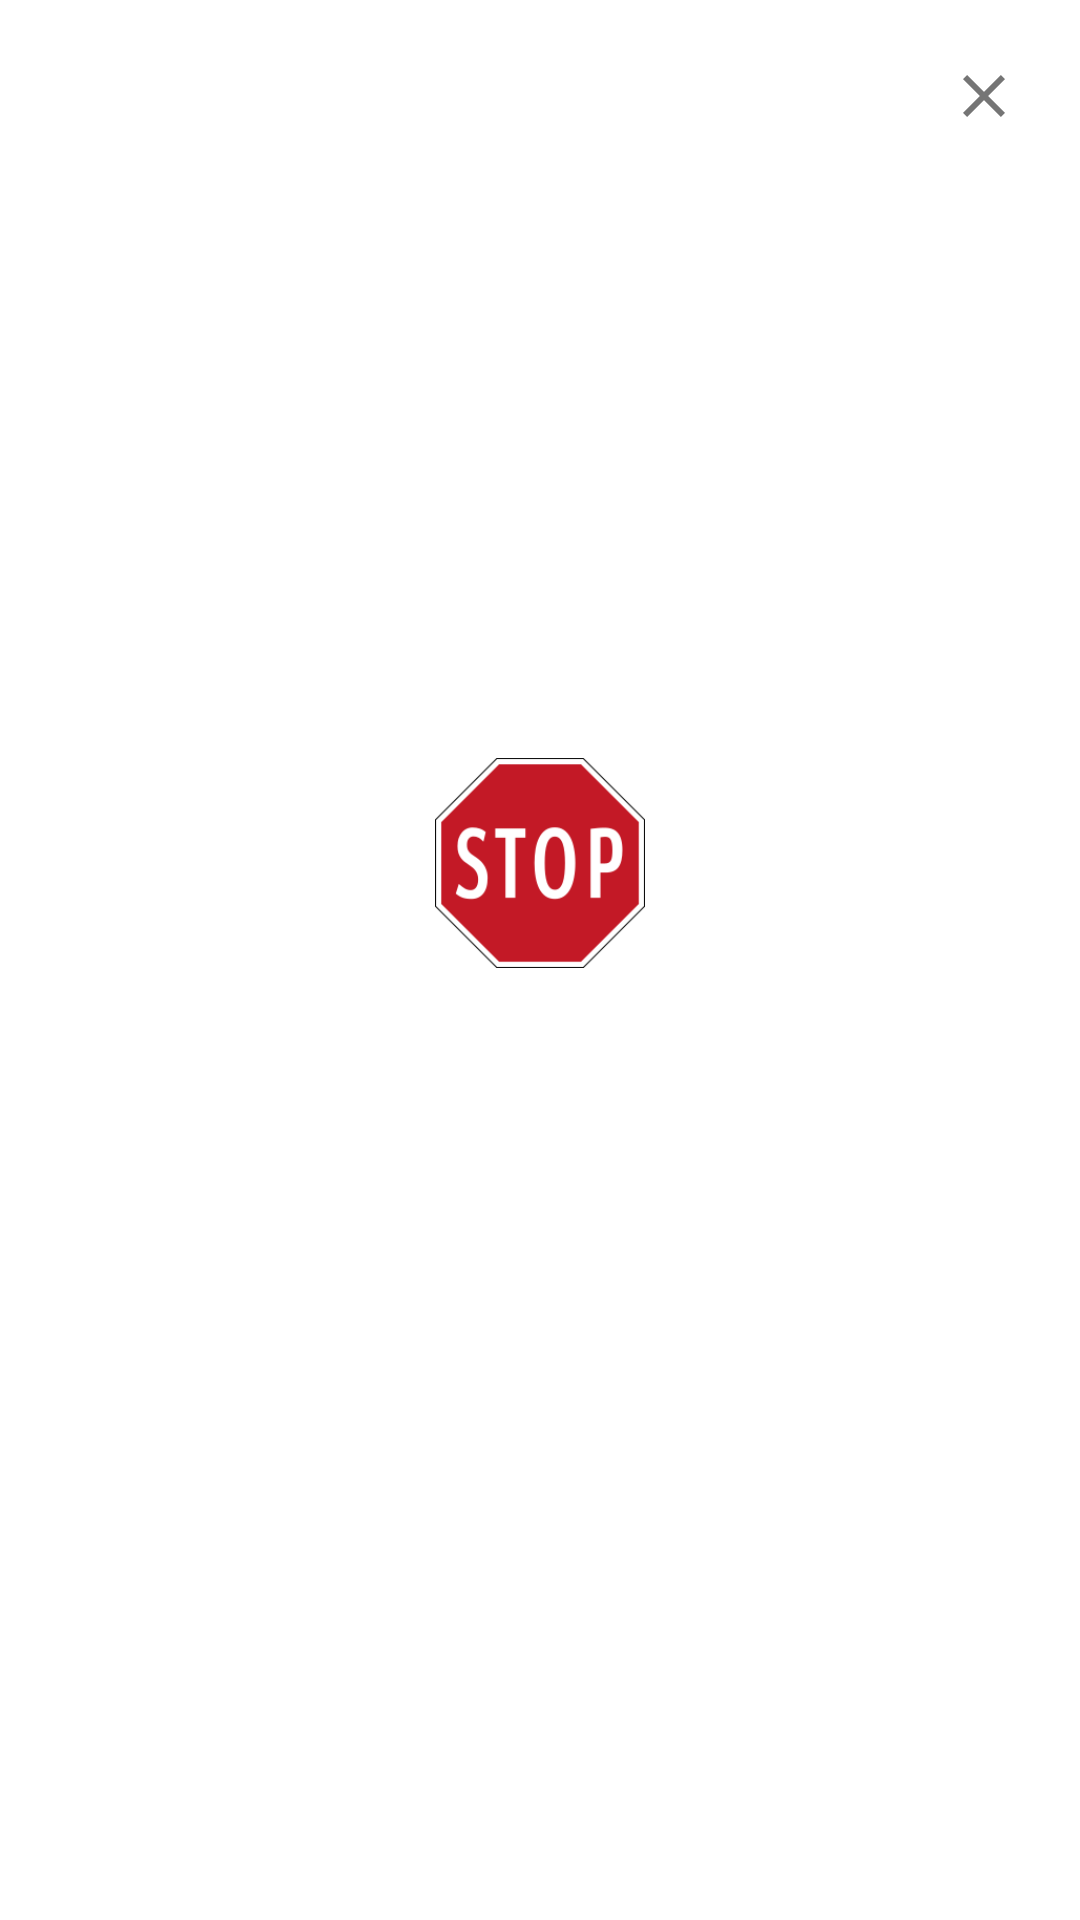

Point at icon controls on the screen. Image size 1080*1920, points as point (x, y).
close: point (984, 96)
road sign: point (540, 863)
